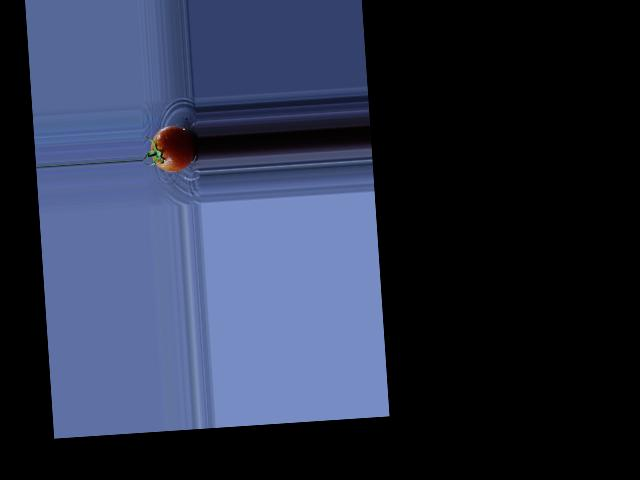tomato: (150, 124, 197, 172)
